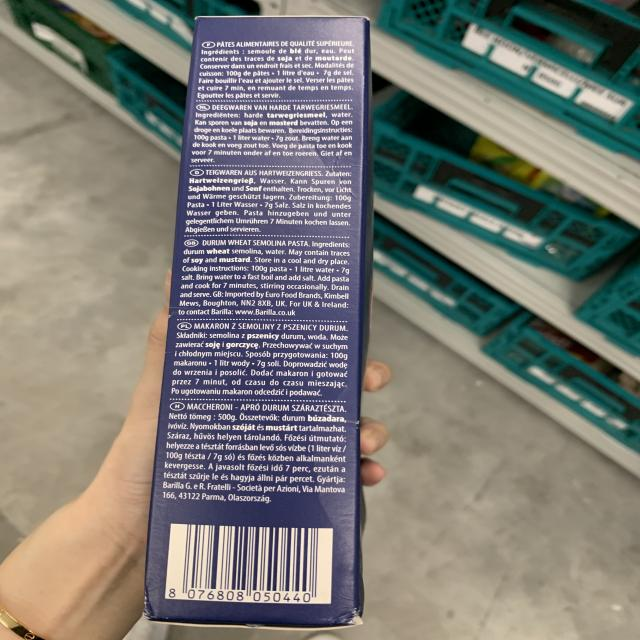object_name: (186, 16, 357, 618)
